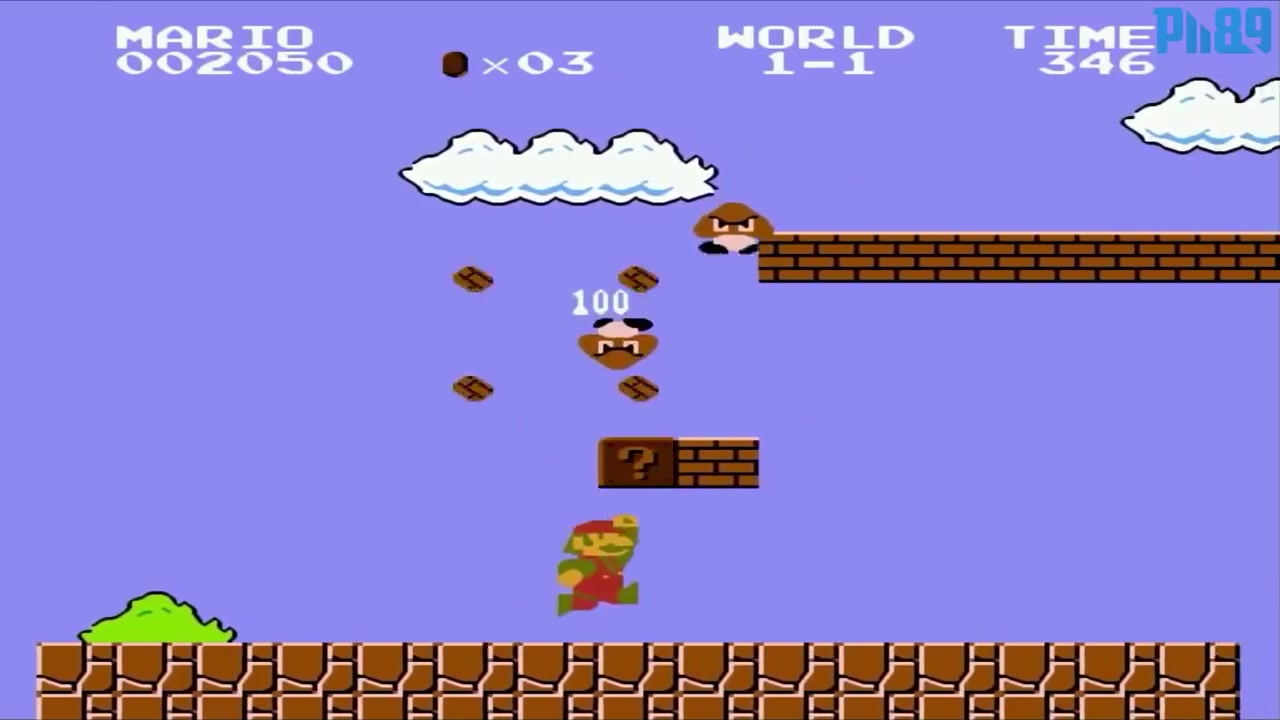mario: (546, 503, 647, 620)
